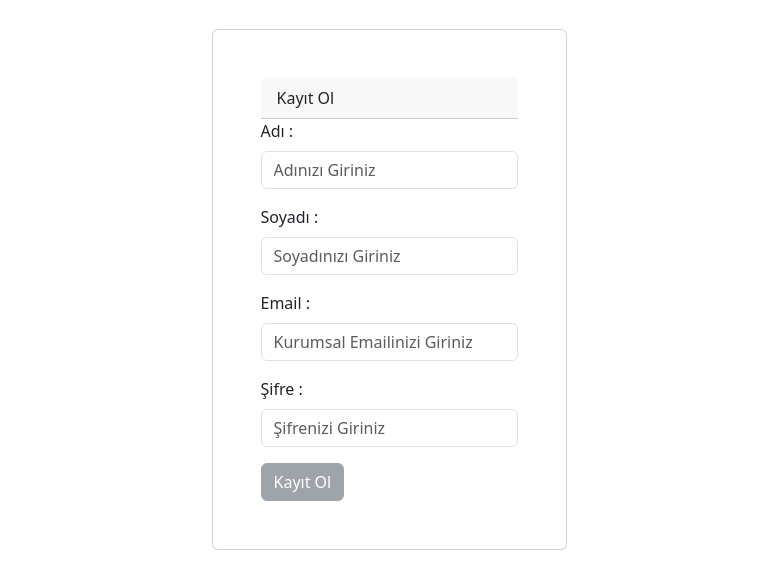
Scenario: Register Page › Error Messages › Password input throws error for 1234
Type "1234" into the password field with test id "password-input" at (390, 428), box [261,409,518,447]
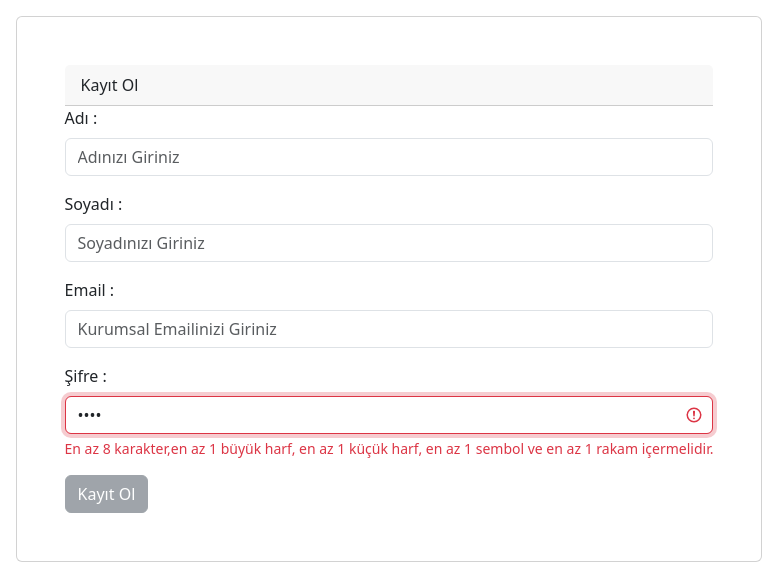
Result: the text "En az 8 karakter,en az 1 büyük harf, en az 1 küçük harf, en az 1 sembol ve en az 1 rakam içermelidir." is shown at [65,439,714,458]
